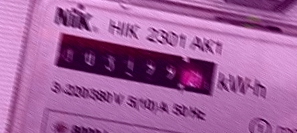0: (59, 45, 73, 65), (82, 48, 94, 67)
1: (123, 52, 134, 72)
3: (102, 53, 113, 73)
6: (184, 74, 195, 91)
9: (143, 58, 154, 77), (163, 64, 174, 82)
screen: (45, 29, 223, 104)
